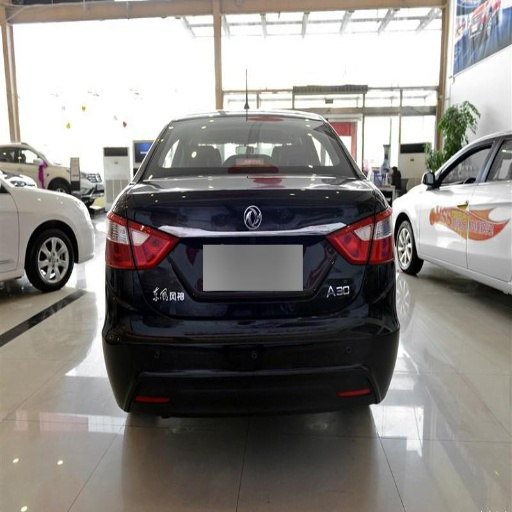back_bumper: (104, 257, 412, 421)
back_glass: (142, 116, 360, 181)
back_left_door: (468, 140, 511, 263)
